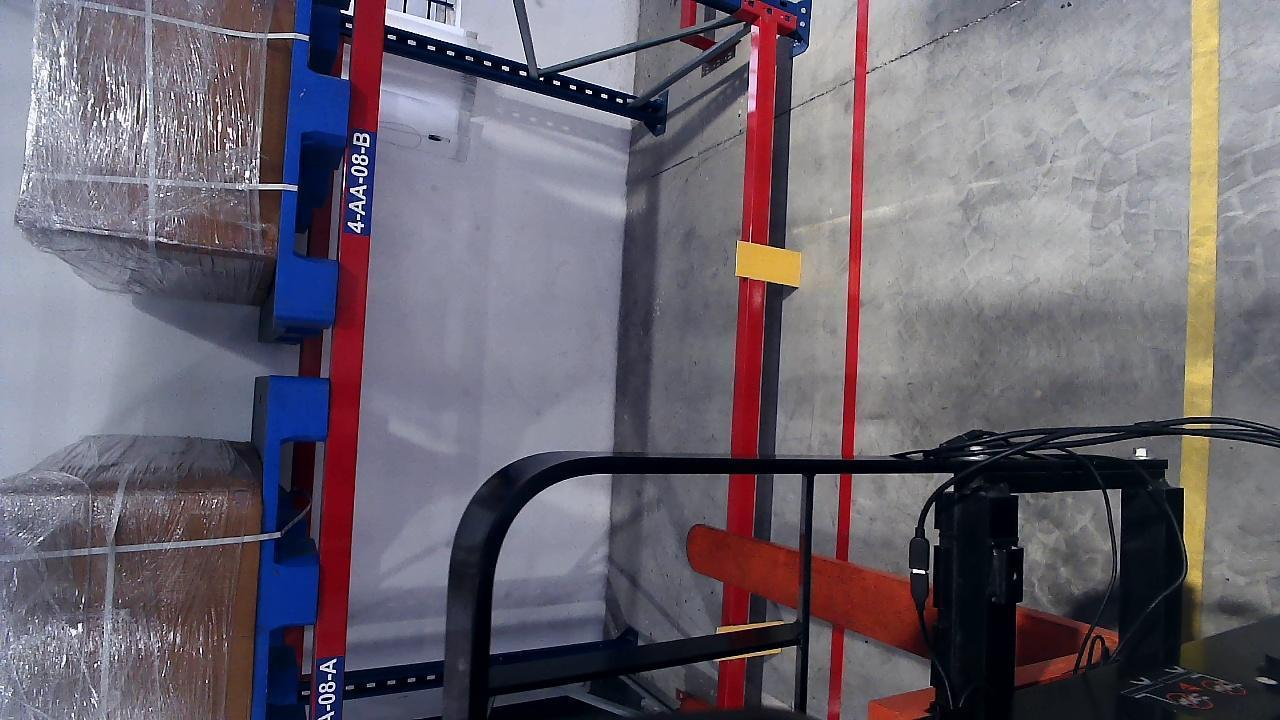red_line: (837, 9, 869, 589)
yellow_line: (1178, 0, 1221, 644)
